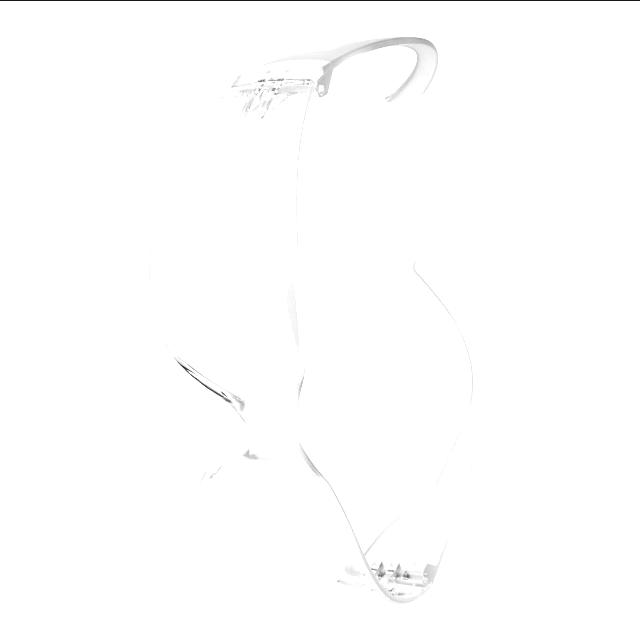Safety Glasses: (145, 31, 499, 608)
